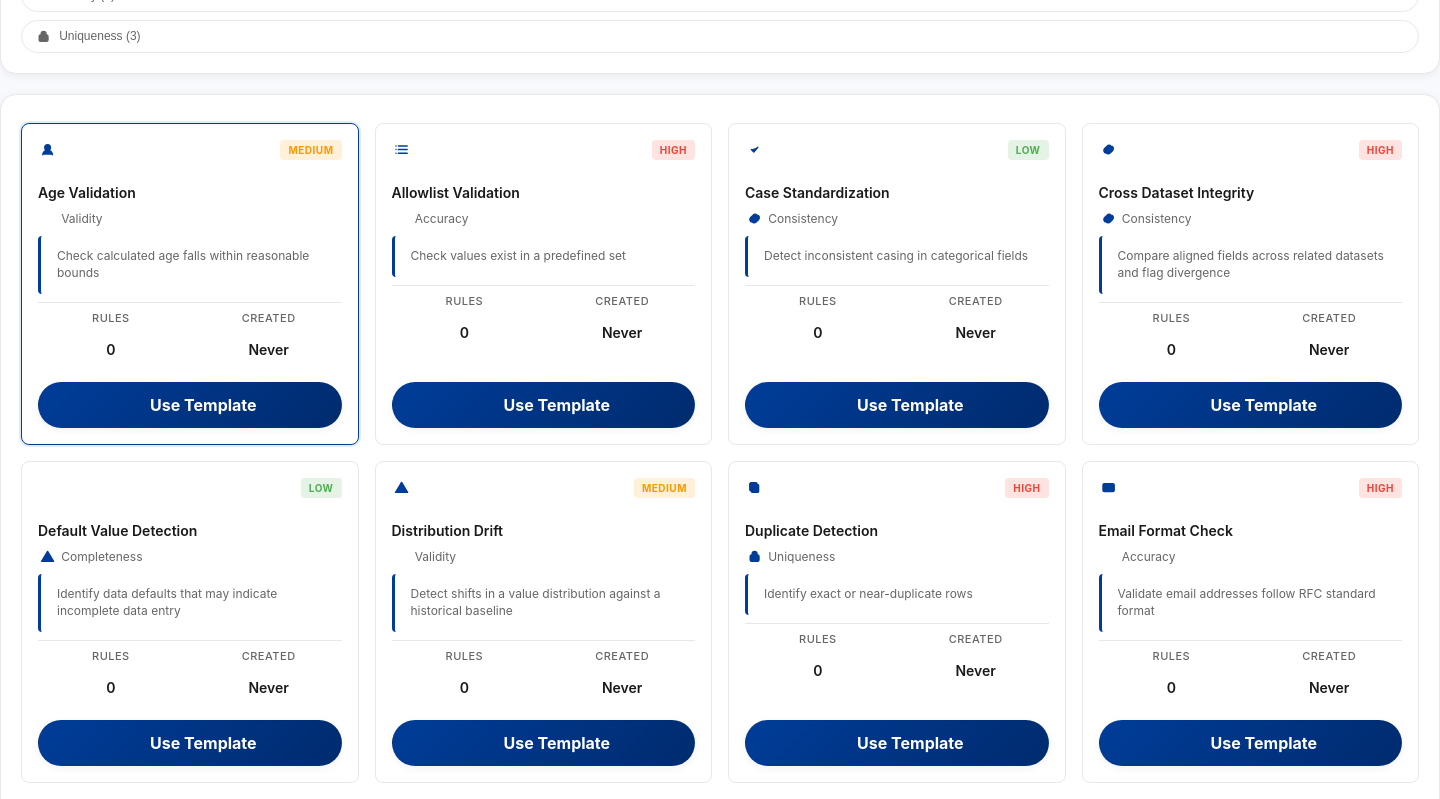
it: TemplateLibrary › keeps template selection and empty-state behavior working
(page scrolled)
Click the 1st button "Use Template" at (190, 405), box [38,382,342,428]
(page scrolled)
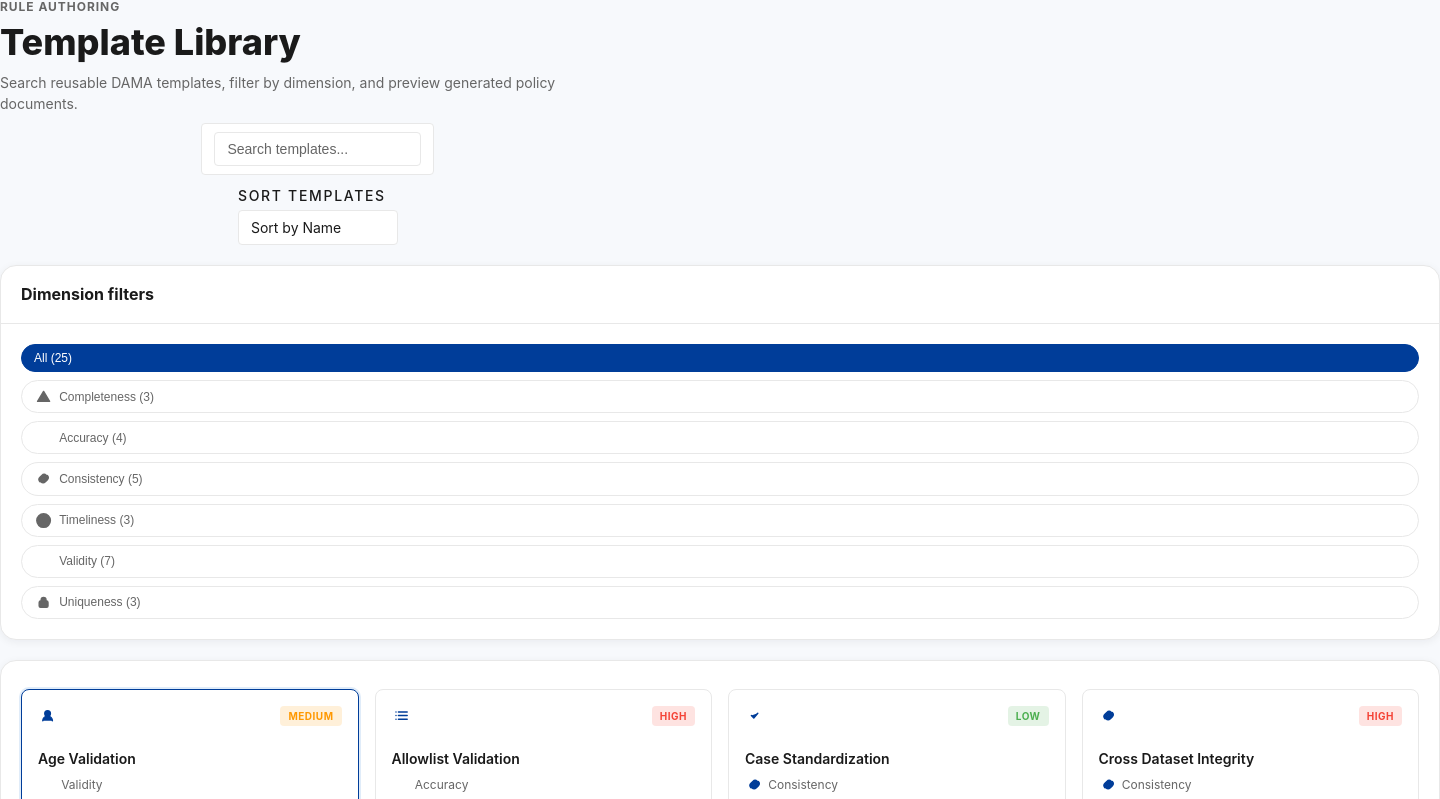
Type "does-not-exist" into the field with placeholder "Search templates..." at (318, 149), box [214,132,422,166]
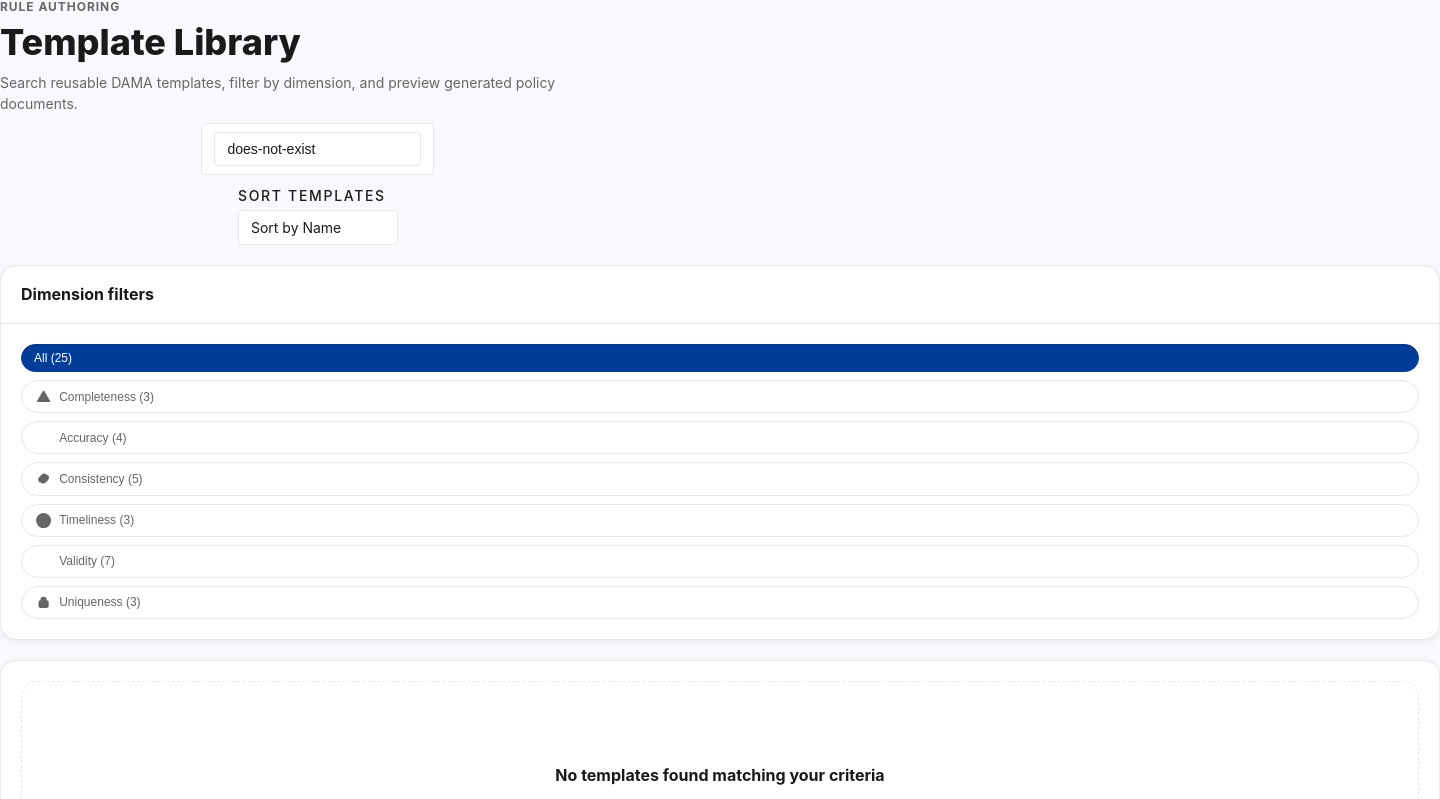
Check: the heading "No templates found matching your criteria" is shown, box [555,765,885,785]
